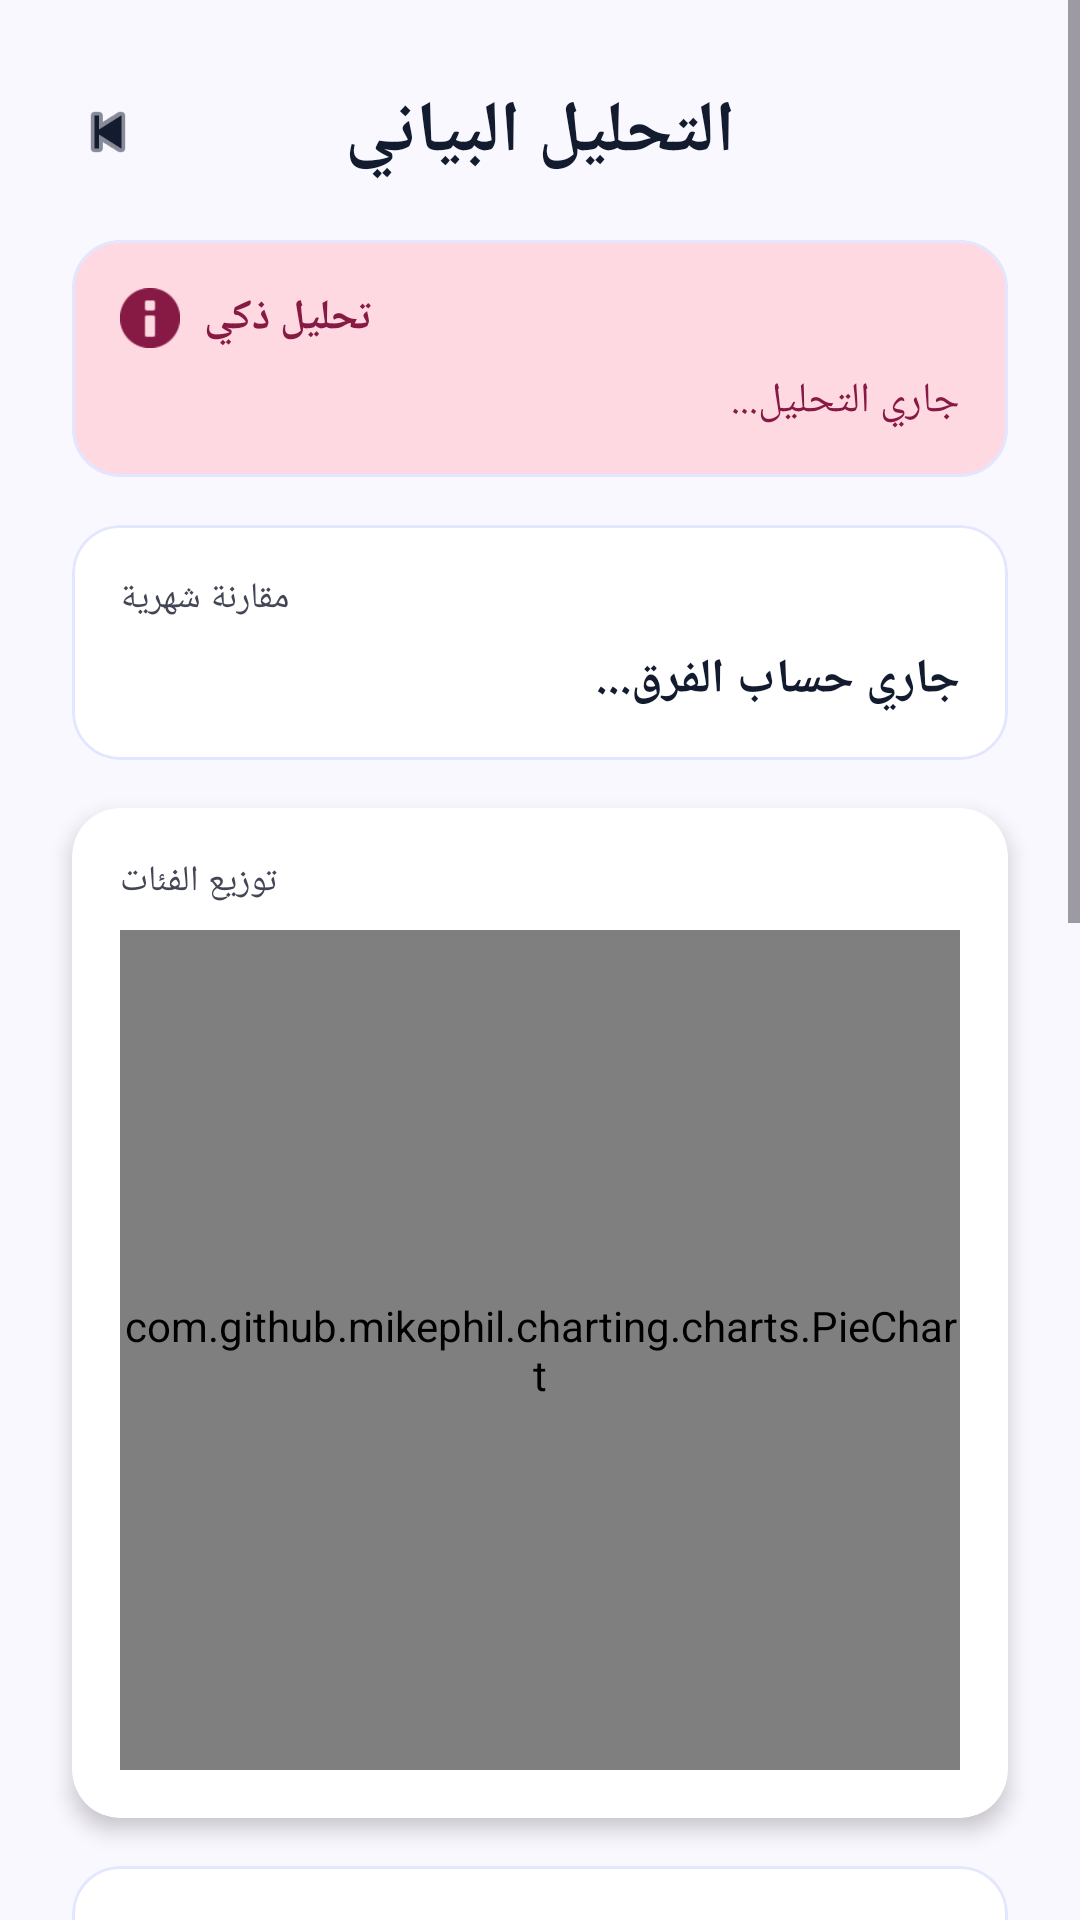

Named icons in this screenshot (1080px×1920px) and their centers, (x,y):
رجوع: (108,132)
